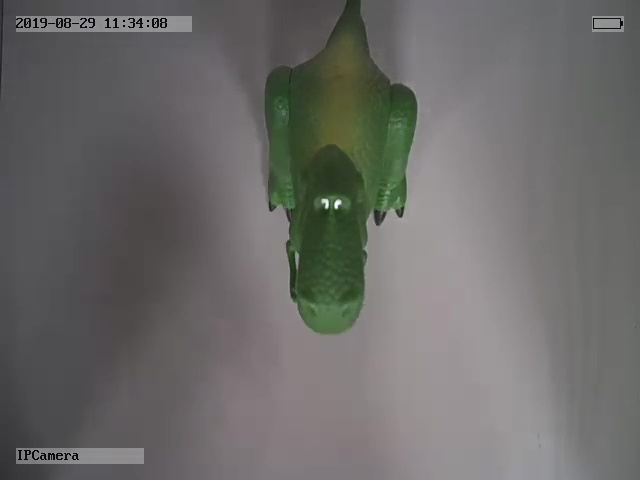rex: (257, 1, 421, 338)
